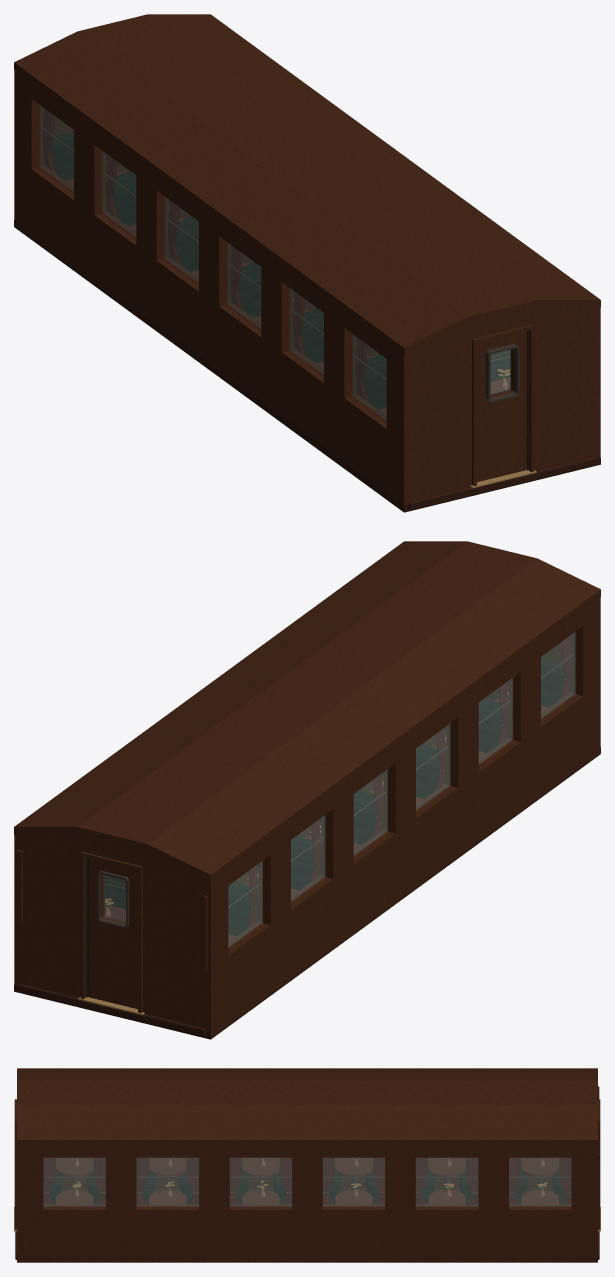
File: 03_train_material.glb
3 renders of one model, top to bottom at view 1: azimuth 30°, elevation 25°; view 2: azimuth 150°, elevation 25°; view 3: azimuth 270°, elevation 25°, orthographic. The views are drawn at different scales.
Parts seen in each view (by area): view 1: Complete profiled roof solid, Left full sidewall with six true apertures, Inferred reverse profiled end wall, End door leaf, Continuous underfloor structural solid, Window -1 4 real dark glazing, Window -1 1 real dark glazing, Window -1 2 real dark glazing, Window -1 6 real dark glazing, Window -1 3 real dark glazing, Window -1 5 real dark glazing, Continuous floor shell (+12 smaller); view 2: Complete profiled roof solid, Left full sidewall with six true apertures, Observed forward profiled end wall, End door leaf.001, Continuous floor shell, Window -1 3 real dark glazing, Window -1 1 real dark glazing, Window -1 5 real dark glazing, Window -1 6 real dark glazing, Window -1 4 real dark glazing, Window -1 2 real dark glazing, Window sill wooden rail (+12 smaller); view 3: Right full sidewall with six true apertures, Complete profiled roof solid, Window 1 1 real dark glazing, Window 1 2 real dark glazing, Window 1 5 real dark glazing, Window 1 6 real dark glazing, Window 1 3 real dark glazing, Window 1 4 real dark glazing, Continuous underfloor structural solid, Window sill wooden rail.001, Continuous side floor skirting -1, Booth -1 2 rounded wood table (+28 smaller).
Boxes of the visible parts, <box> form: Complete profiled roof solid: <box>14,14,600,355</box>; Left full sidewall with six true apertures: <box>14,65,412,510</box>; Inferred reverse profiled end wall: <box>400,307,600,505</box>; End door leaf: <box>477,330,526,481</box>; Continuous underfloor structural solid: <box>14,220,600,512</box>; Window -1 4 real dark glazing: <box>164,196,198,283</box>; Window -1 1 real dark glazing: <box>352,334,386,420</box>; Window -1 2 real dark glazing: <box>289,288,323,374</box>; Window -1 6 real dark glazing: <box>39,105,73,191</box>; Window -1 3 real dark glazing: <box>227,242,261,328</box>; Window -1 5 real dark glazing: <box>102,151,136,236</box>; Continuous floor shell: <box>179,208,596,510</box>; Complete profiled roof solid: <box>14,541,600,882</box>; Left full sidewall with six true apertures: <box>202,592,600,1037</box>; Observed forward profiled end wall: <box>14,834,210,1031</box>; End door leaf.001: <box>88,857,137,1008</box>; Continuous floor shell: <box>18,730,445,1037</box>; Window -1 3 real dark glazing: <box>416,723,450,810</box>; Window -1 1 real dark glazing: <box>541,632,575,718</box>; Window -1 5 real dark glazing: <box>291,815,325,901</box>; Window -1 6 real dark glazing: <box>228,861,262,947</box>; Window -1 4 real dark glazing: <box>353,769,387,855</box>; Window -1 2 real dark glazing: <box>478,678,512,763</box>; Window sill wooden rail: <box>228,692,576,949</box>; Right full sidewall with six true apertures: <box>17,1142,597,1261</box>; Complete profiled roof solid: <box>17,1068,597,1145</box>; Window 1 1 real dark glazing: <box>43,1157,105,1206</box>; Window 1 2 real dark glazing: <box>136,1157,198,1206</box>; Window 1 5 real dark glazing: <box>416,1157,478,1206</box>; Window 1 6 real dark glazing: <box>509,1157,571,1206</box>; Window 1 3 real dark glazing: <box>230,1157,291,1206</box>; Window 1 4 real dark glazing: <box>323,1157,384,1206</box>; Continuous underfloor structural solid: <box>17,1256,597,1262</box>; Window sill wooden rail.001: <box>43,1205,571,1207</box>; Continuous side floor skirting -1: <box>62,1180,552,1187</box>; Booth -1 2 rounded wood table: <box>242,1158,279,1176</box>.
Bounding box in the file's own units: 3.27 × 2.86 × 11.35.
Materials: 17 (7 with a texture image).
